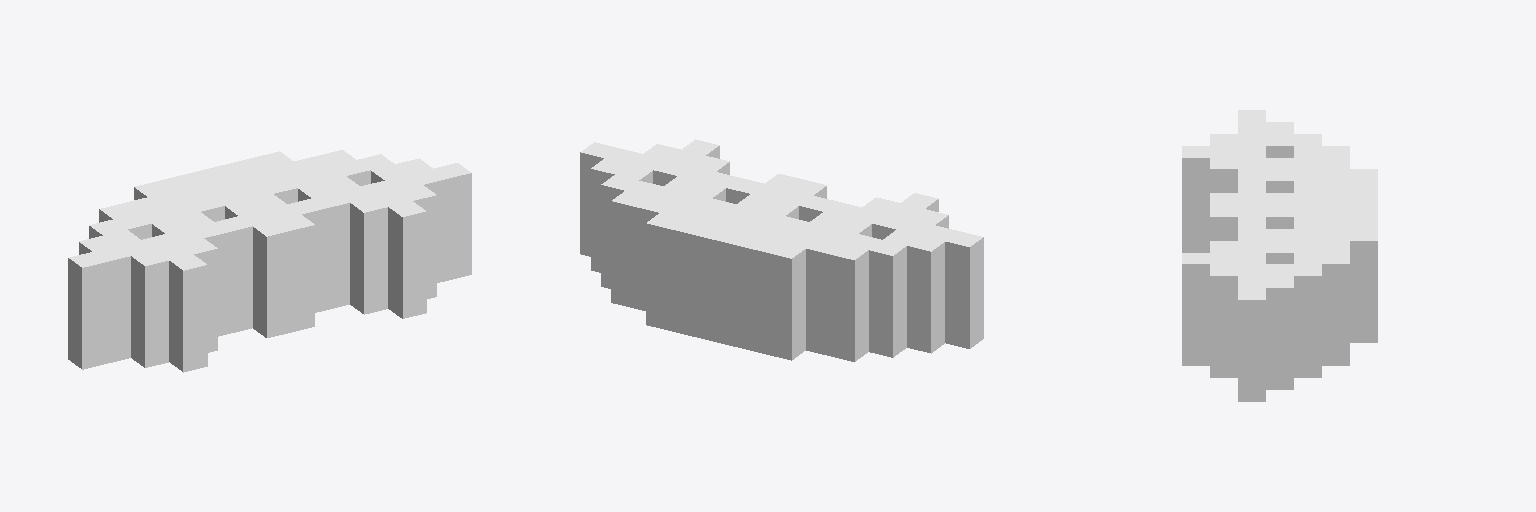
File: jefe.obj
The picture shows the model from 3 angles: view 1: azimuth 30°, elevation 25°; view 2: azimuth 150°, elevation 25°; view 3: azimuth 270°, elevation 25°; orthographic projection.
Visible parts, largest first — view 1: object 1; view 2: object 1; view 3: object 1.
Boxes of the visible parts, <box> form: object 1: <box>68,150,471,372</box>; object 1: <box>580,139,983,361</box>; object 1: <box>1182,110,1377,401</box>.
Size of the model in its own units: 1.6 by 0.4 by 0.7.